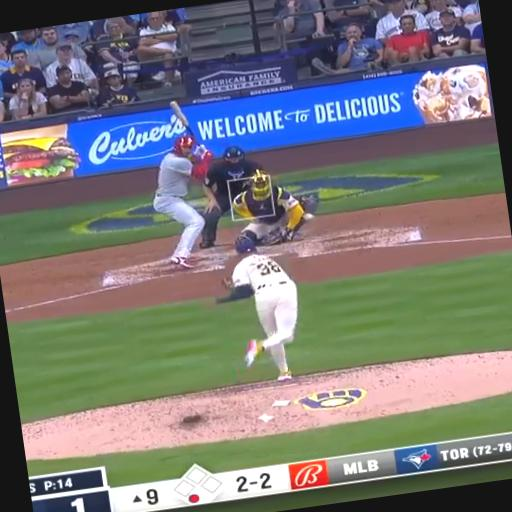bat: (170, 101, 194, 136)
